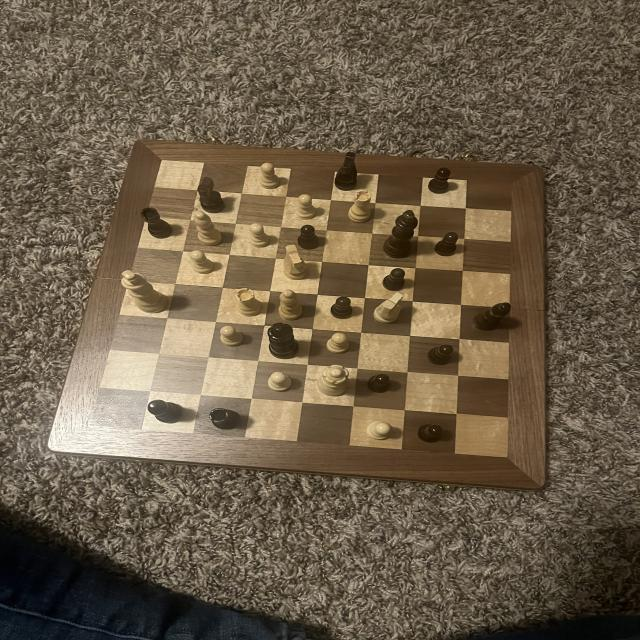bishop: (470, 301, 516, 334), (142, 398, 187, 426)
black-bishop: (381, 208, 422, 262)
black-king: (331, 149, 361, 194), (197, 177, 227, 215)
black-knight: (294, 223, 326, 251), (426, 166, 454, 196), (425, 342, 457, 367), (432, 231, 460, 258), (380, 267, 408, 292), (328, 296, 355, 320), (417, 422, 445, 444), (367, 372, 393, 395)
black-pawn: (266, 321, 302, 362)
black-queen: (137, 205, 176, 239), (206, 406, 242, 433)
black-rook: (192, 210, 226, 250), (276, 286, 306, 321)
white-bishop: (119, 270, 170, 316)
white-king: (279, 244, 312, 282), (370, 292, 407, 324)
white-knight: (186, 248, 218, 277), (246, 222, 274, 251), (363, 419, 396, 442), (294, 192, 320, 221), (219, 323, 249, 348), (258, 162, 283, 191), (324, 331, 352, 356), (266, 370, 296, 393)
white-pawn: (313, 364, 355, 399)
white-queen: (233, 288, 265, 319), (346, 190, 376, 223)
